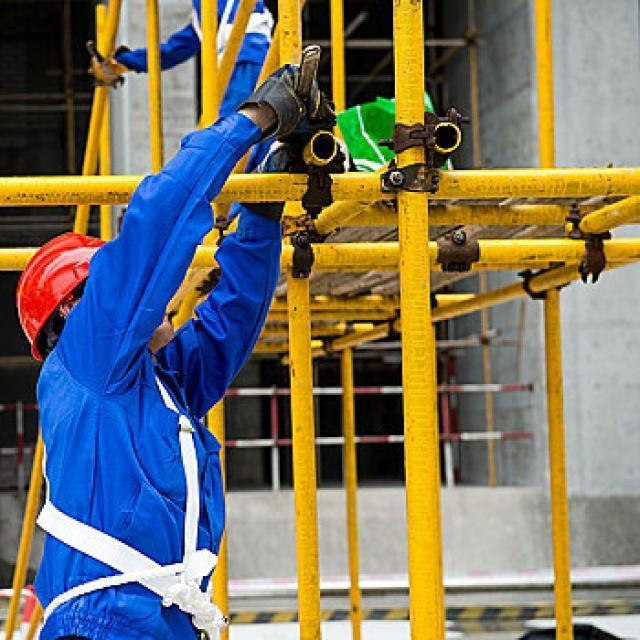Arnes_seguridad: (24, 348, 229, 638)
